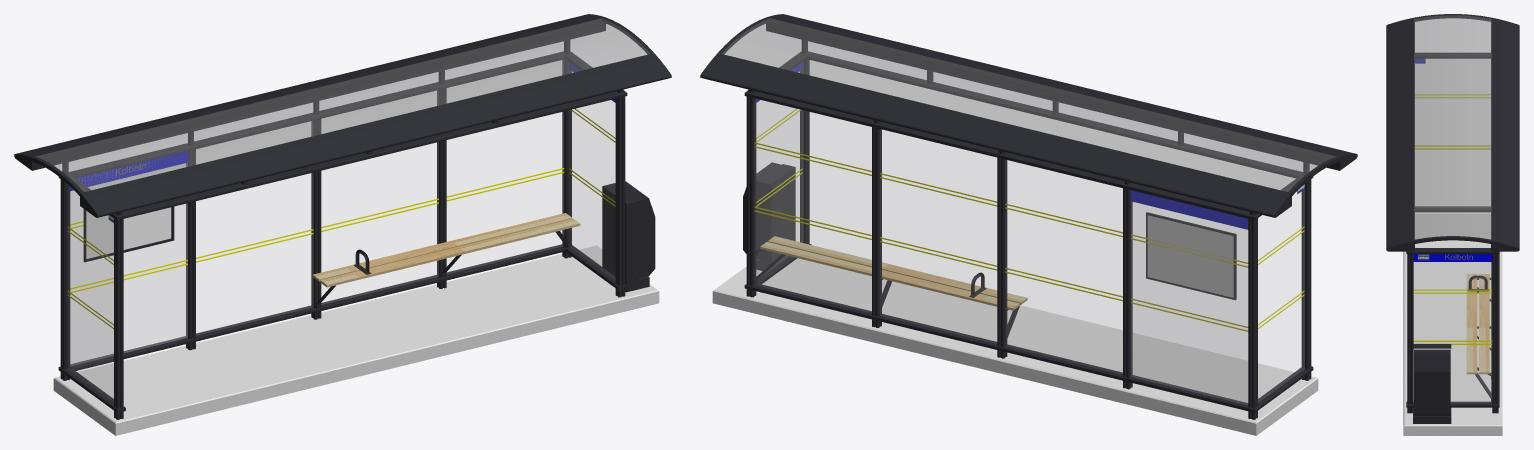
Rendered from 1301008-4-felt-1030.ext.glb.
3 views of the same model, side by side, from view 1: azimuth 30°, elevation 25°; view 2: azimuth 150°, elevation 25°; view 3: azimuth 270°, elevation 25° (orthographic). The views are drawn at different scales.
Parts seen in each view (by area): view 1: Glass herdet 1350x2040 (×5), Fundament C90 4 felt 1030, Takdrager 1030 4 felt (×2), Takplate 1030 4 felt, Glass herdet 680x2040#1 (×2), Stolpeprofil 2017 (×7), Galleriramme 1030 4 felt, Bunnsarg 1030 4 felt, Benkeplanke (×2), Søppelkasse 70 L, Tidtabelltavle, Holdeplassnavn u/ buss; view 2: Glass herdet 1350x2040 (×5), Fundament C90 4 felt 1030, Takdrager 1030 4 felt (×2), Takplate 1030 4 felt, Glass herdet 680x2040#1 (×2), Stolpeprofil 2017 (×7), Galleriramme 1030 4 felt, Tidtabelltavle, Bunnsarg 1030 4 felt, Benkeplanke (×2), Dekorrender (×4), Søppelkasse 70 L (+1 smaller); view 3: Takplate 1030 4 felt, Takdrager 1030 4 felt (×2), Fundament C90 4 felt 1030, Glass herdet 680x2040#1, Søppelkasse 70 L, Benkeplanke (×2), Stolpeprofil 2017 (×2), Bunnsarg 1030 4 felt, DekorrendeR 730 (×2), Galleriramme 1030 4 felt, Takbøyle 1030 (×2), Holdeplassnavn m/ buss (+2 smaller).
Part boxes in pixels (x1,y1,x2,y2): Glass herdet 1350x2040 (×5): [71, 112, 563, 365]; Fundament C90 4 felt 1030: [53, 245, 659, 435]; Takdrager 1030 4 felt (×2): [14, 14, 671, 217]; Takplate 1030 4 felt: [36, 18, 650, 191]; Glass herdet 680x2040#1 (×2): [67, 99, 614, 402]; Stolpeprofil 2017 (×7): [60, 59, 625, 408]; Galleriramme 1030 4 felt: [58, 51, 627, 220]; Bunnsarg 1030 4 felt: [58, 244, 627, 412]; Benkeplanke (×2): [312, 213, 580, 287]; Søppelkasse 70 L: [602, 181, 655, 292]; Tidtabelltavle: [83, 206, 174, 262]; Holdeplassnavn u/ buss: [70, 151, 187, 190]; Glass herdet 1350x2040 (×5): [755, 99, 1247, 404]; Fundament C90 4 felt 1030: [712, 258, 1318, 435]; Takdrager 1030 4 felt (×2): [700, 14, 1357, 217]; Takplate 1030 4 felt: [721, 18, 1335, 191]; Glass herdet 680x2040#1 (×2): [757, 99, 1304, 402]; Stolpeprofil 2017 (×7): [746, 59, 1311, 408]; Galleriramme 1030 4 felt: [744, 51, 1313, 220]; Tidtabelltavle: [1146, 212, 1236, 299]; Bunnsarg 1030 4 felt: [744, 244, 1313, 412]; Benkeplanke (×2): [760, 236, 1027, 310]; Dekorrender (×4): [754, 142, 1248, 331]; Søppelkasse 70 L: [743, 162, 795, 270]; Takplate 1030 4 felt: [1414, 15, 1491, 239]; Takdrager 1030 4 felt (×2): [1386, 17, 1519, 251]; Fundament C90 4 felt 1030: [1403, 214, 1502, 435]; Glass herdet 680x2040#1: [1414, 262, 1491, 402]; Søppelkasse 70 L: [1413, 344, 1451, 423]; Benkeplanke (×2): [1466, 274, 1489, 374]; Stolpeprofil 2017 (×2): [1407, 254, 1498, 404]; Bunnsarg 1030 4 felt: [1406, 206, 1499, 407]; DekorrendeR 730 (×2): [1413, 94, 1492, 344]; Galleriramme 1030 4 felt: [1406, 52, 1499, 253]; Takbøyle 1030 (×2): [1414, 14, 1491, 243]; Holdeplassnavn m/ buss: [1413, 254, 1492, 261].
Bounding box in the file's own units: 6.42 × 2.66 × 1.62.
Materials: 11 (3 with a texture image).
